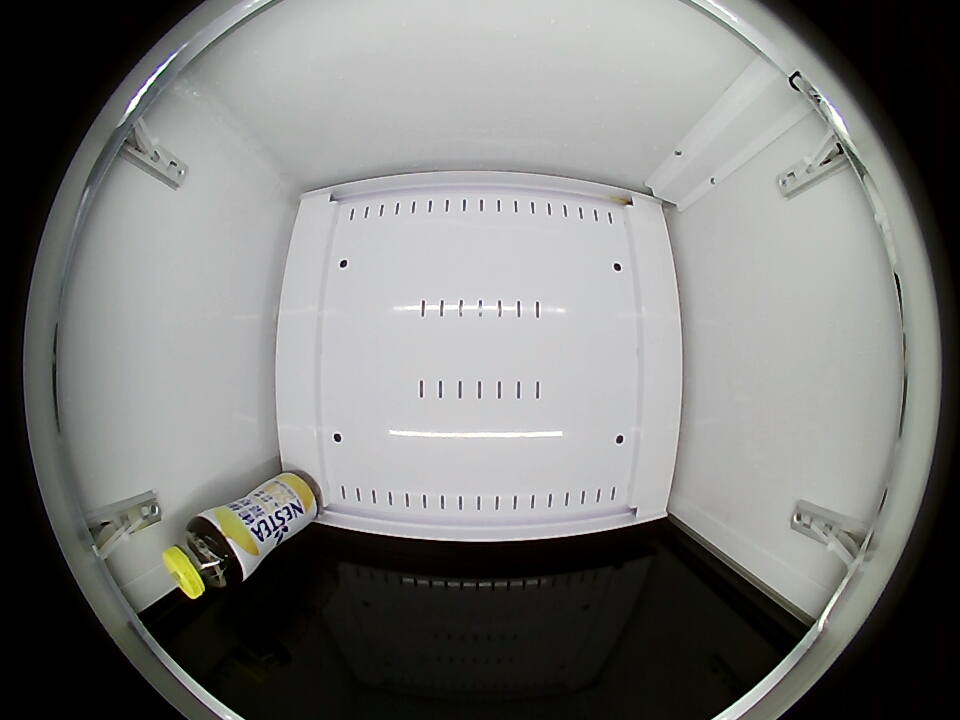chacui: (163, 515, 245, 599)
